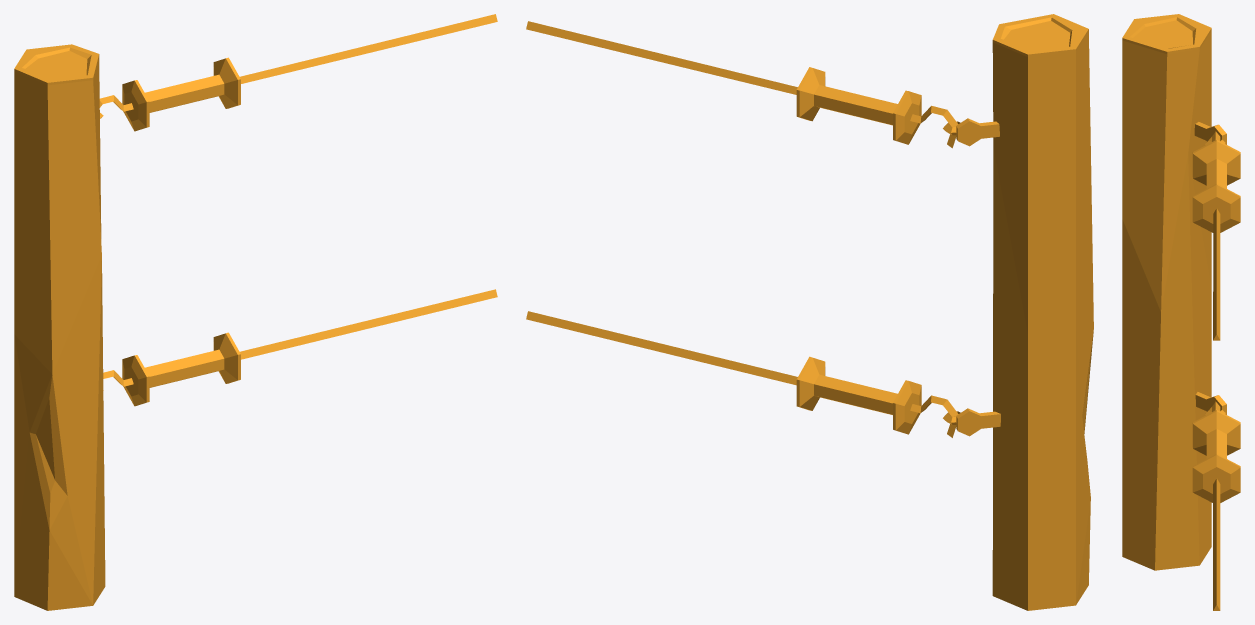
Rendered from SM_Fence_Electric_End_A.fbx.
3 renders of one model, left to right at view 1: azimuth 30°, elevation 25°; view 2: azimuth 150°, elevation 25°; view 3: azimuth 270°, elevation 25°, orthographic. The views are drawn at different scales.
Parts seen in each view (by area): view 1: fence-electric-end-a; view 2: fence-electric-end-a; view 3: fence-electric-end-a.
Boxes of the visible parts, left/top/right/bottom form: fence-electric-end-a: left=14, top=14, right=497, bottom=610; fence-electric-end-a: left=526, top=14, right=1093, bottom=610; fence-electric-end-a: left=1122, top=14, right=1240, bottom=610.
Size of the model in its own units: 1.2 by 1.21 by 0.2498.
